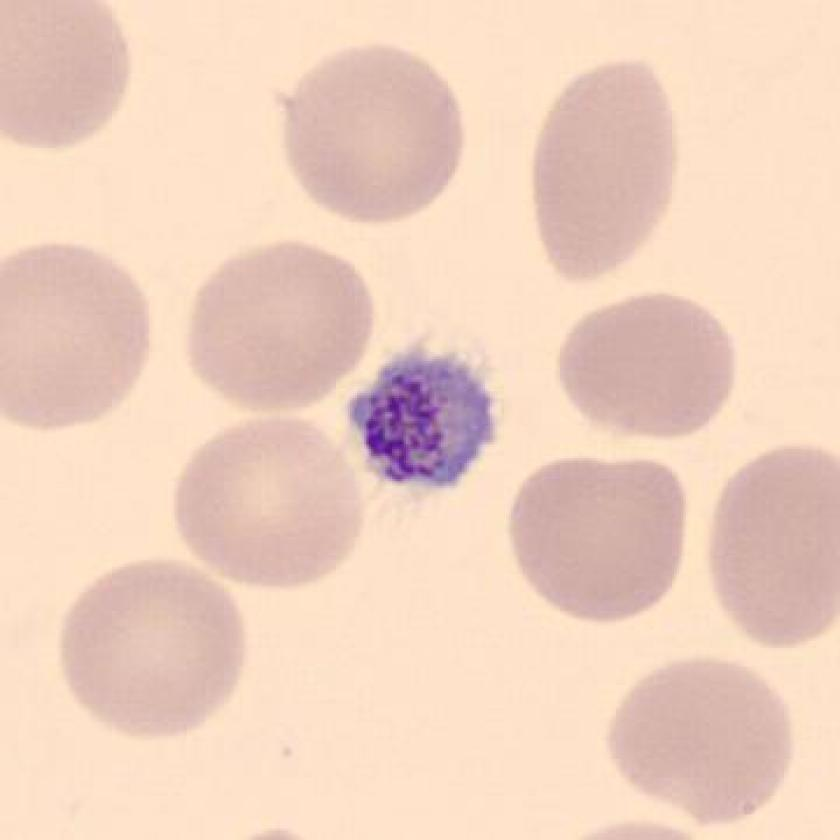platelets: (342, 344, 510, 515)
